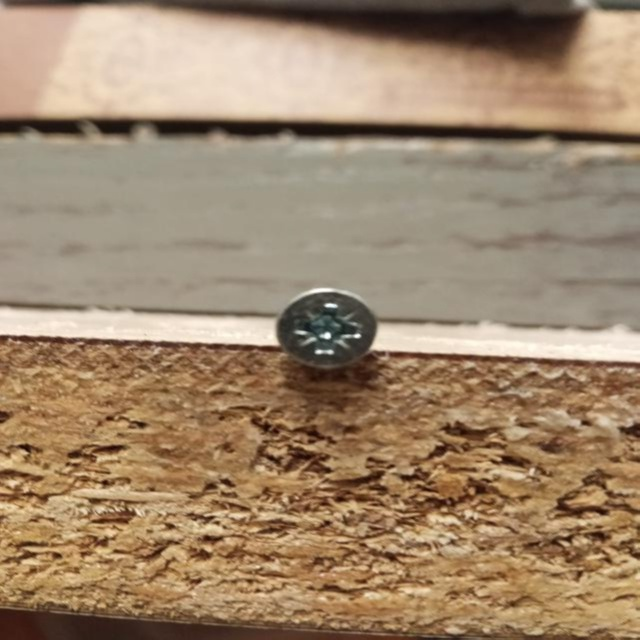pozidriv: (277, 289, 378, 370)
